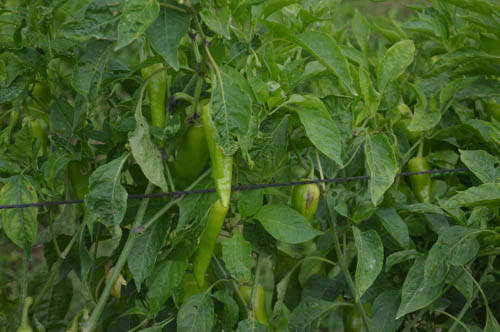ChiliPepper: (196, 96, 238, 208), (59, 145, 102, 239), (192, 197, 232, 296), (139, 59, 170, 152), (175, 107, 208, 193), (233, 276, 277, 332), (280, 172, 323, 224), (404, 150, 438, 209), (341, 291, 372, 332), (390, 113, 421, 145)
